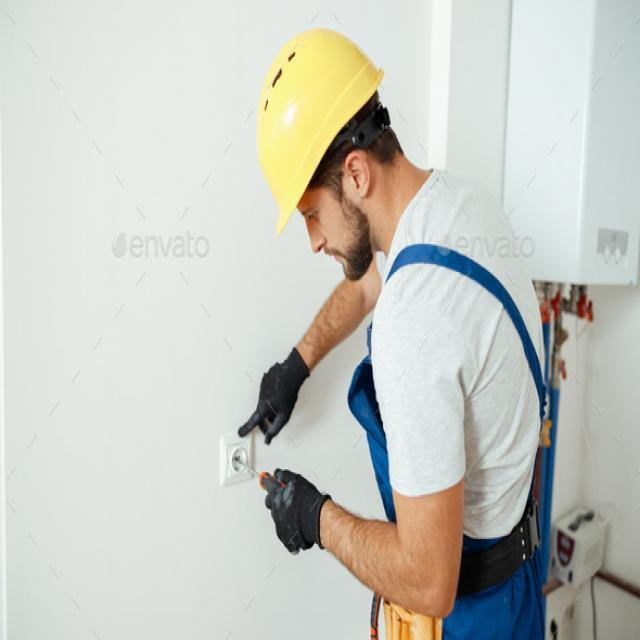screwdriver: (228, 448, 294, 526)
